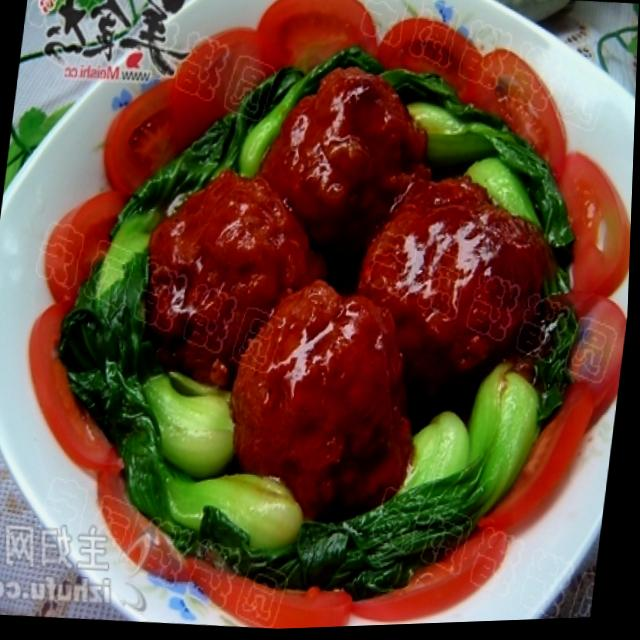猪肉菜式: (0, 0, 640, 622)
